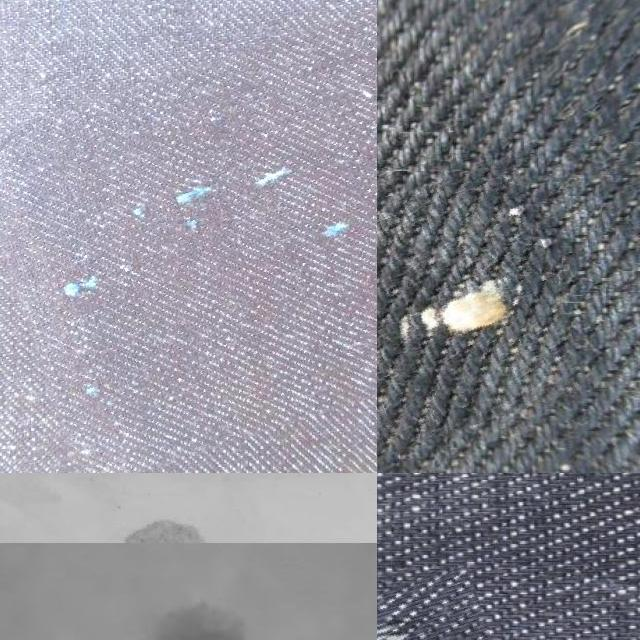Hole: (108, 592, 252, 640)
Thread_other: (0, 35, 377, 462), (377, 172, 574, 448), (377, 573, 504, 640)
